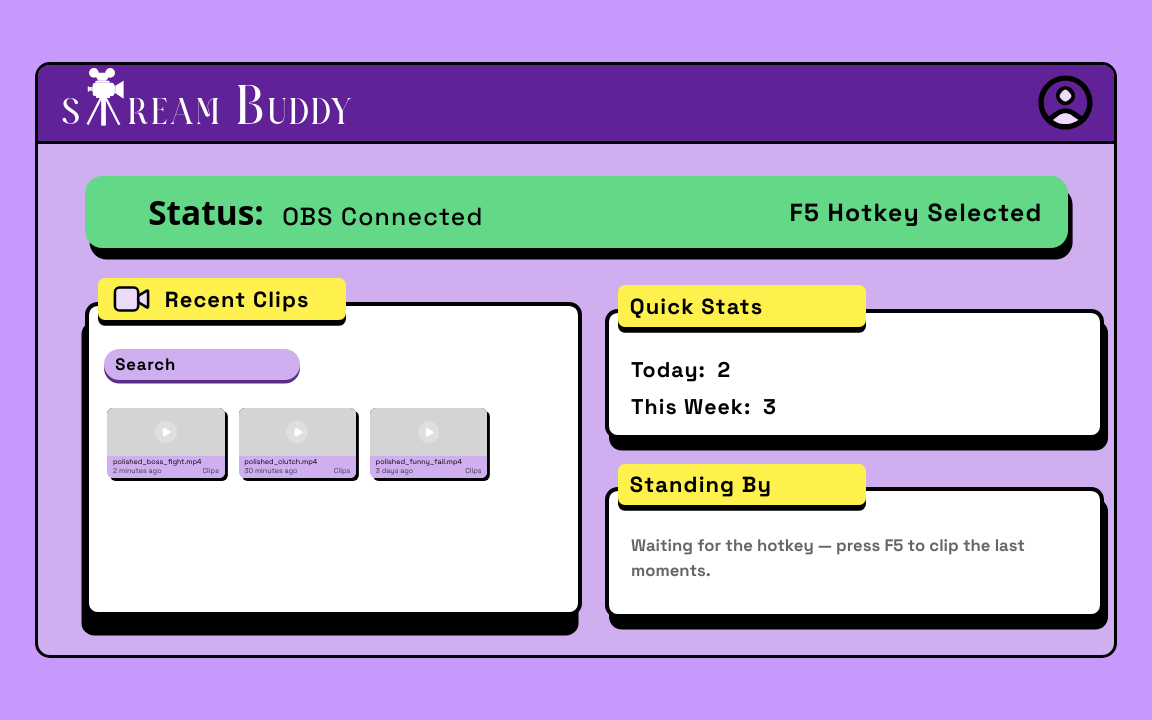
Scenario: search › filters clips by name
Step 1. Type "CLUTCH" into the search field named "Search clips" → (202, 364), box [104,348,300,380]
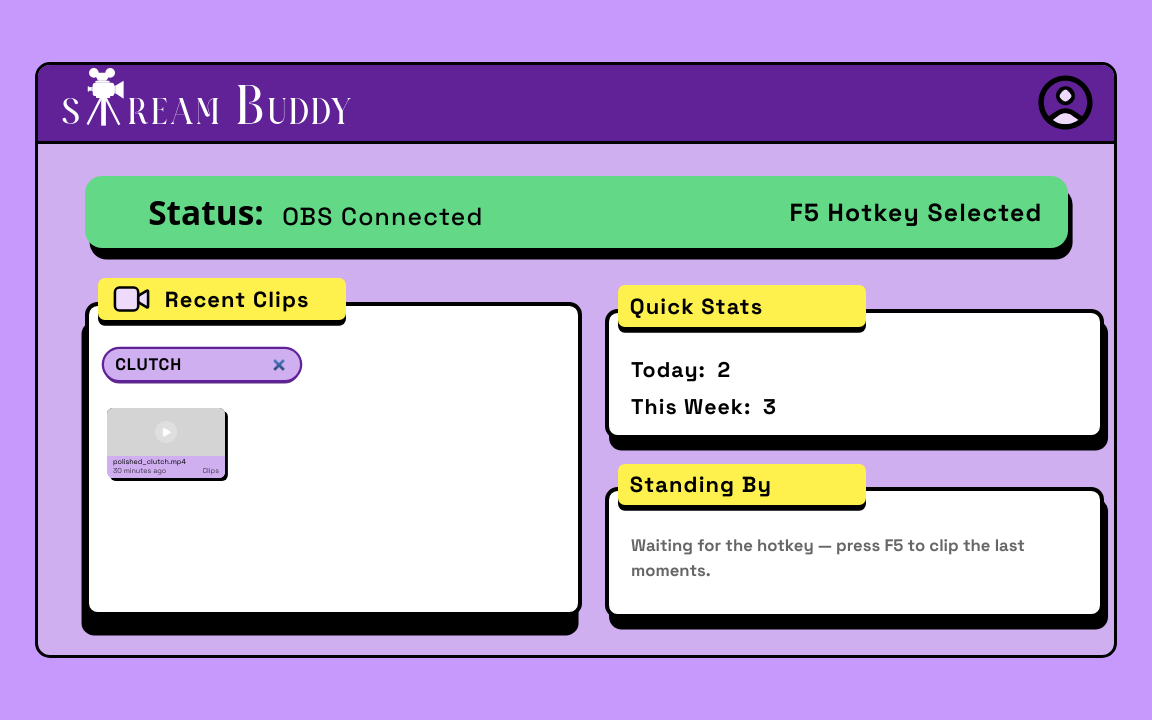
Check: the button titled "polished_boss_fight.mp4" is gone
